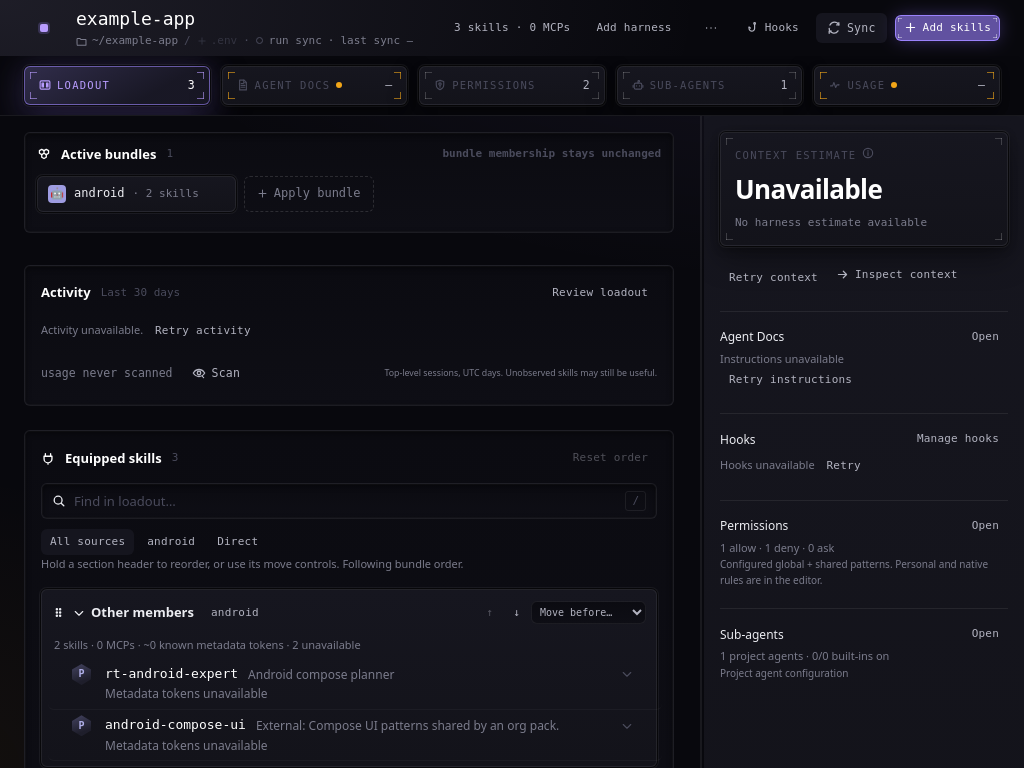
Test case: Project Sub-Agents tab › lists the project's agents (scope=project) after switching to the tab
# Switch from the default loadout view to the Sub-Agents tab.
Click the button "Sub-Agents 1". click: click(710, 85)
box: [618,67,801,104]
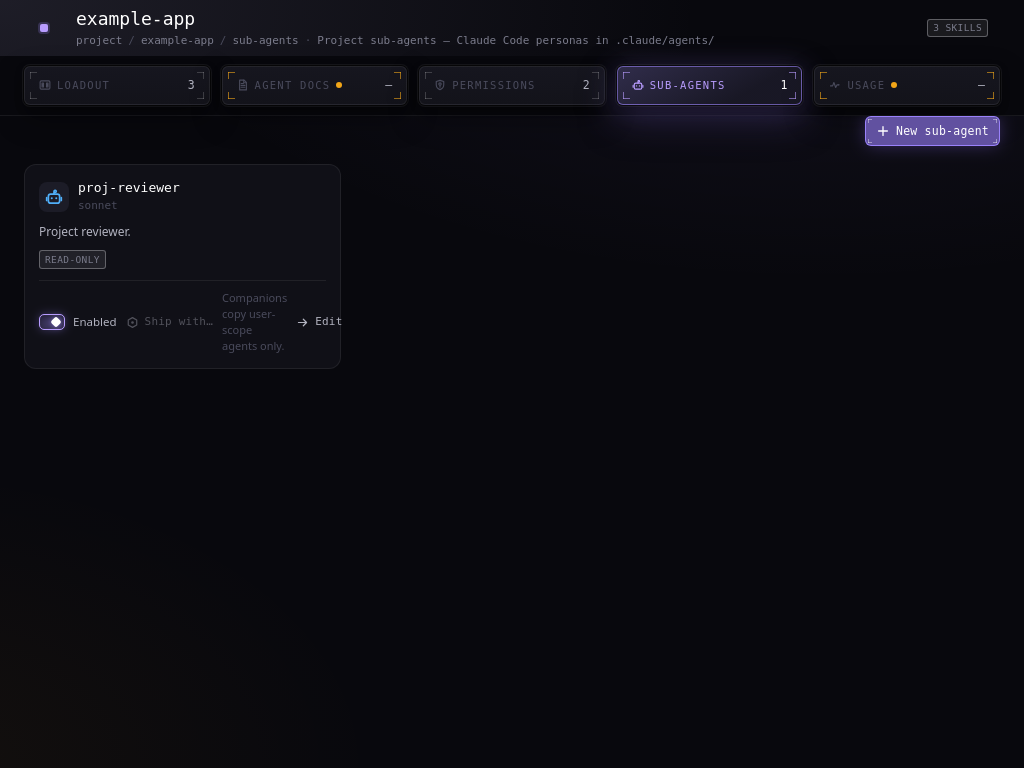
Now the text "proj-reviewer" is shown, box [78,180,180,195]
